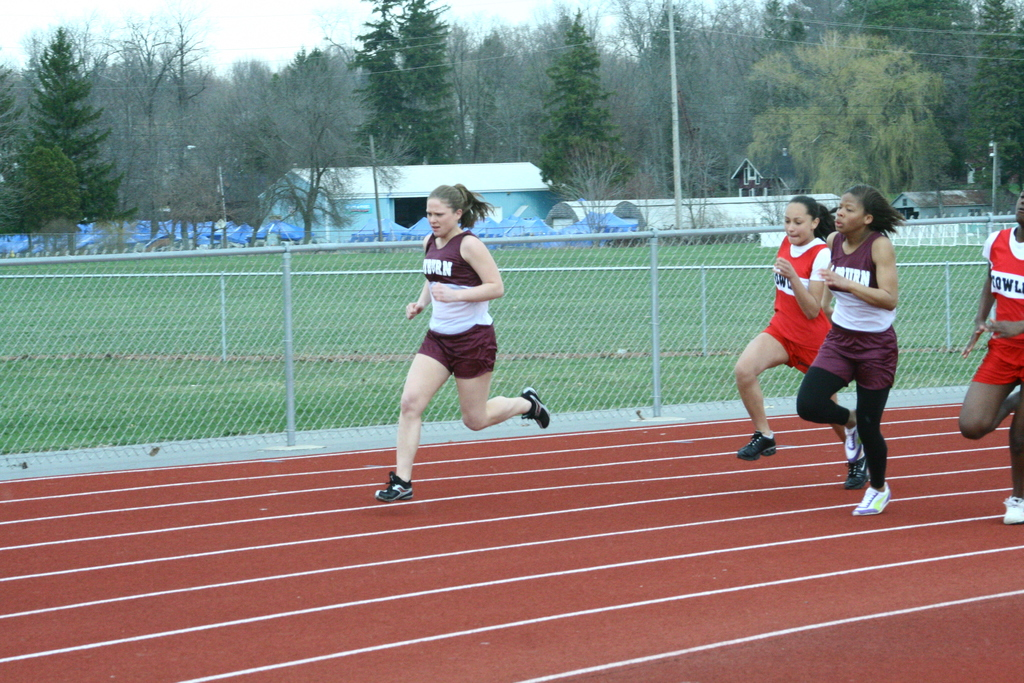Person: (374, 183, 548, 503), (793, 186, 905, 512), (730, 196, 847, 462), (958, 189, 1024, 524)
